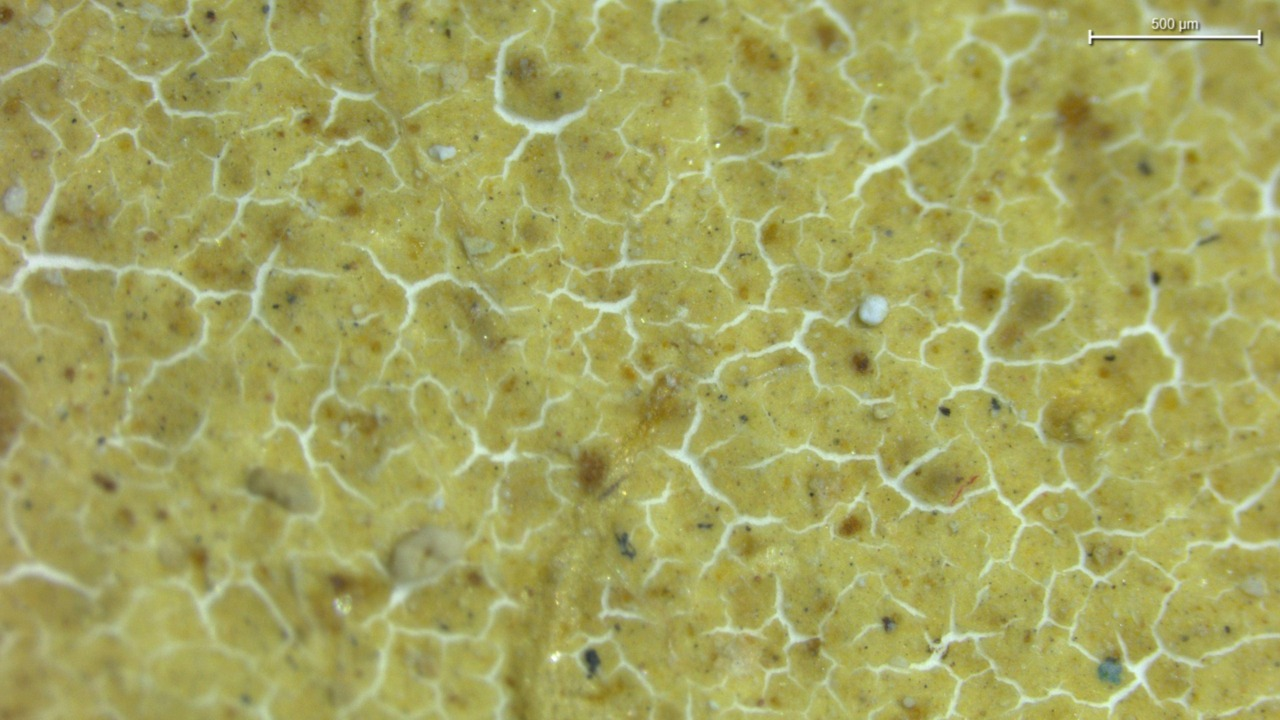microplastic_fragment: (387, 526, 464, 588), (858, 295, 888, 325)
